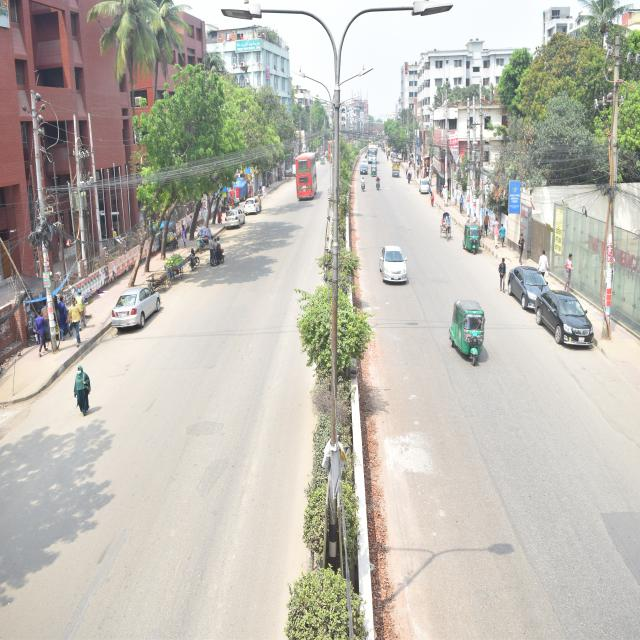bus: (290, 147, 319, 224), (364, 134, 384, 168)
car: (90, 262, 175, 367), (541, 268, 603, 362), (499, 224, 557, 314), (372, 226, 414, 302), (223, 197, 251, 239), (242, 191, 266, 224), (418, 170, 436, 203)
motorbike: (207, 228, 229, 273), (183, 246, 201, 280), (359, 174, 373, 205), (373, 171, 387, 197)
pickup-van: (394, 152, 405, 186)
